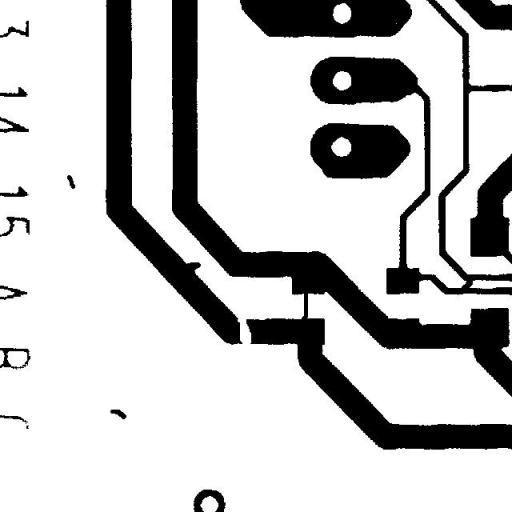copper: (102, 402, 134, 426), (60, 167, 82, 196)
open: (230, 309, 258, 351)
short: (294, 282, 316, 328), (454, 270, 480, 298)
spur: (175, 254, 208, 282)
